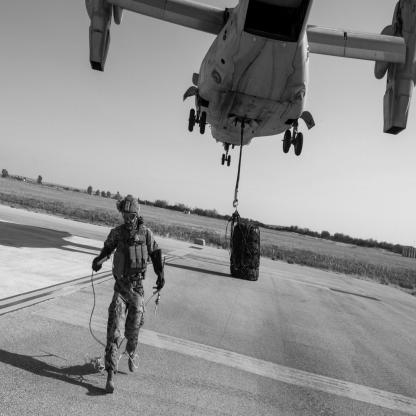V22: (86, 1, 416, 168)
